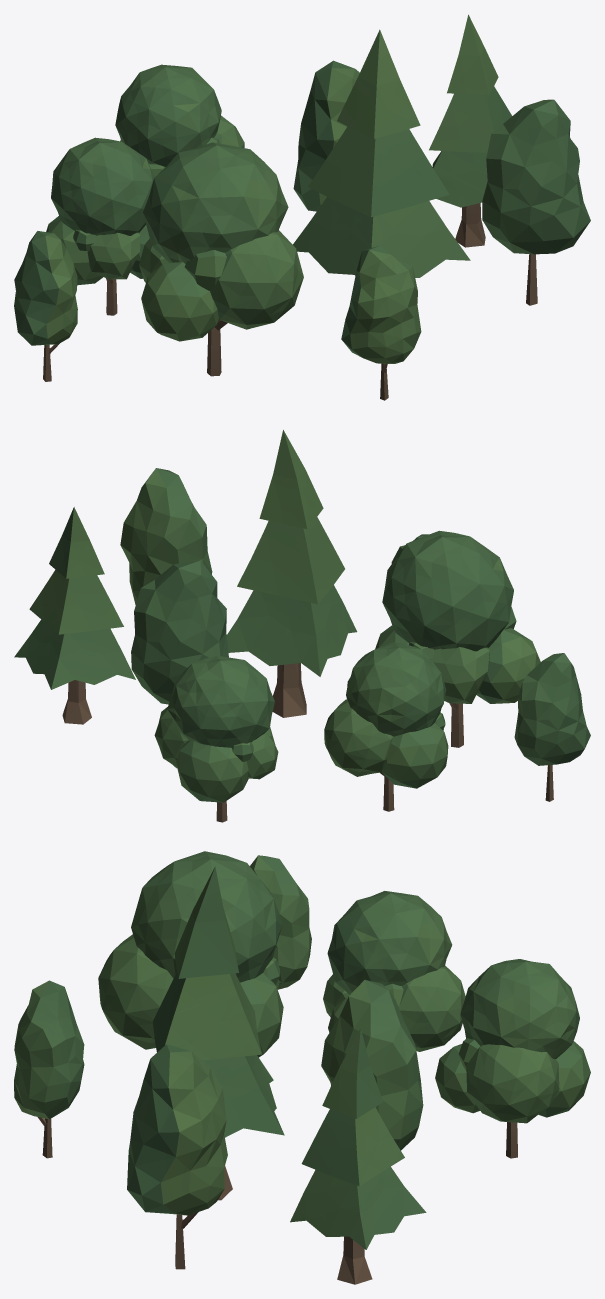
File: treesCluster2.glb
3 renders of one model, top to bottom at view 1: azimuth 30°, elevation 25°; view 2: azimuth 150°, elevation 25°; view 3: azimuth 270°, elevation 25°, orthographic. The views are drawn at different scales.
Visible parts, largest first — view 1: tree-lime, tree-beech, tree-spruce; view 2: tree-lime, tree-spruce, tree-beech; view 3: tree-lime, tree-beech, tree-spruce.
Boxes of the visible parts, bbox=[...] form: tree-lime: bbox=[46, 64, 303, 376]; tree-beech: bbox=[14, 60, 590, 400]; tree-spruce: bbox=[293, 14, 511, 277]; tree-lime: bbox=[154, 530, 540, 822]; tree-spruce: bbox=[14, 430, 357, 724]; tree-beech: bbox=[120, 468, 590, 801]; tree-lime: bbox=[98, 851, 590, 1158]; tree-beech: bbox=[14, 855, 423, 1269]; tree-spruce: bbox=[152, 866, 426, 1284].
Size of the model in its own units: 52.66 by 26.93 by 42.87.
Materials: 3 (3 with a texture image).
